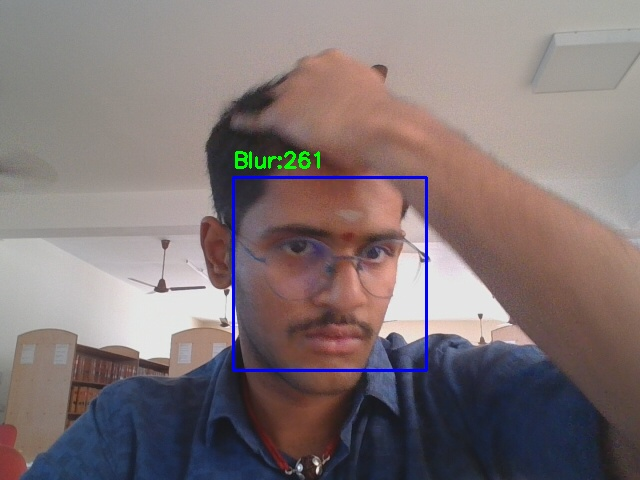real: (233, 177, 426, 370)
